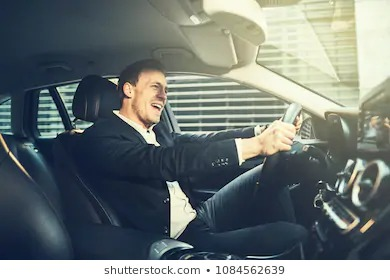F_M_suit jacket: (84, 105, 262, 233)
